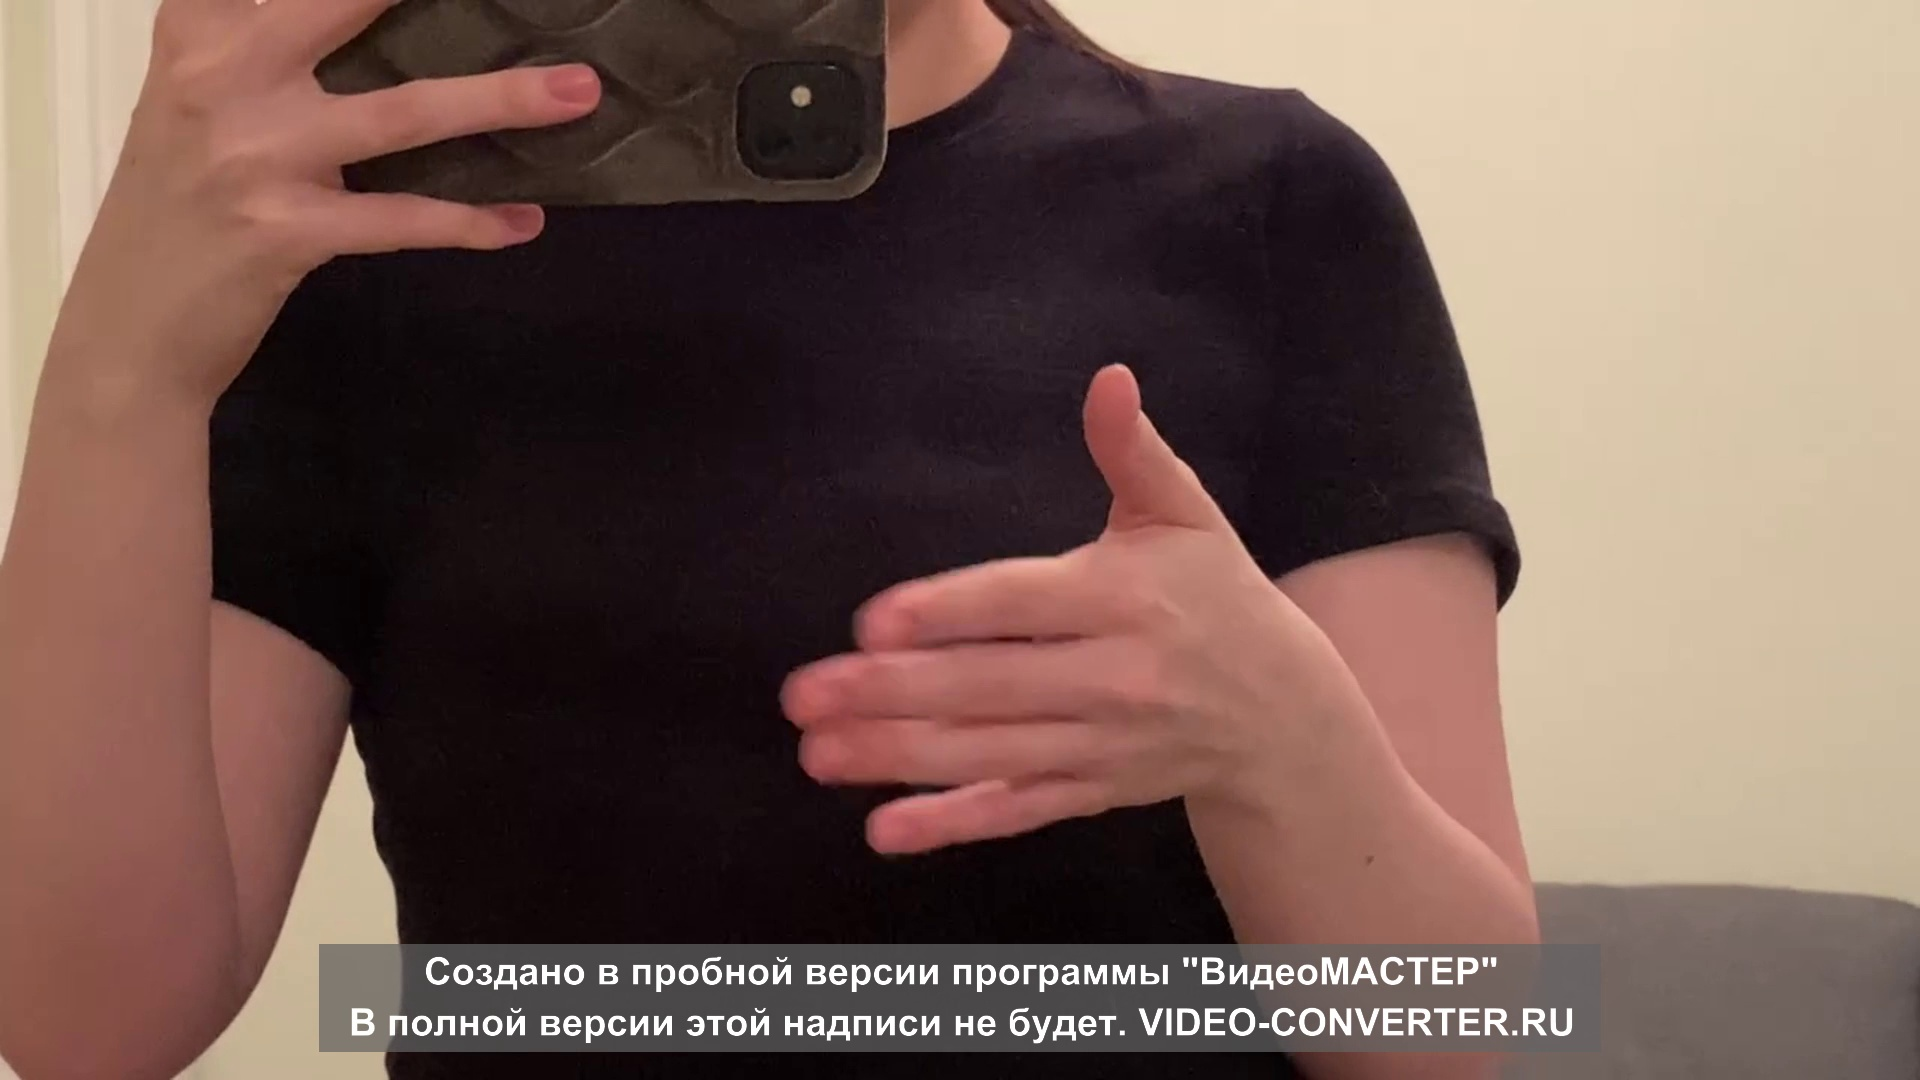Кисть: (777, 361, 1287, 847)
